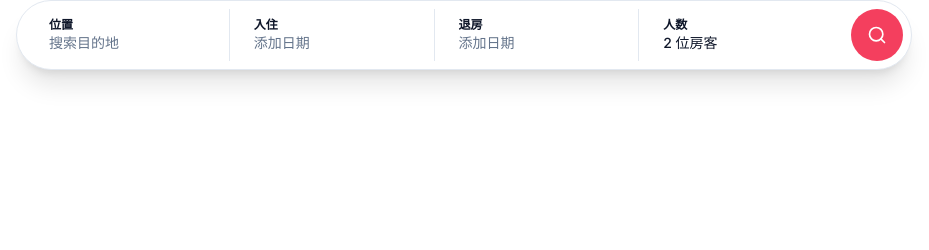
Scenario: SearchBar › opens guests dropdown and adjusts guest count
Expected: the text "2 位房客" is shown, [663,34,718,51]
Step 1. Click the button with aria-label "选择人数" → (741, 35), box [663,9,819,61]
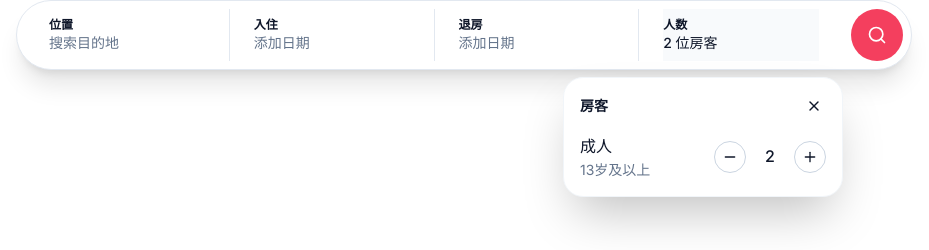
Expected: the text "成人" is shown, [580,136,612,156]
Expected: the button named "增加房客数量" is shown
Click increase button — was 2, should become 3
Step 2. Click the button named "增加房客数量" → (810, 157), box [794,141,826,173]
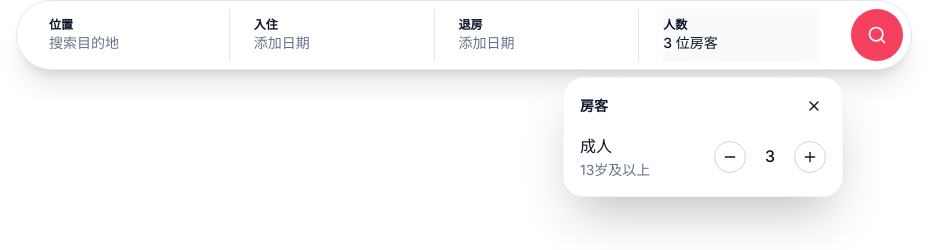
Expected: the text "3 位房客" is shown, [663,34,718,51]
